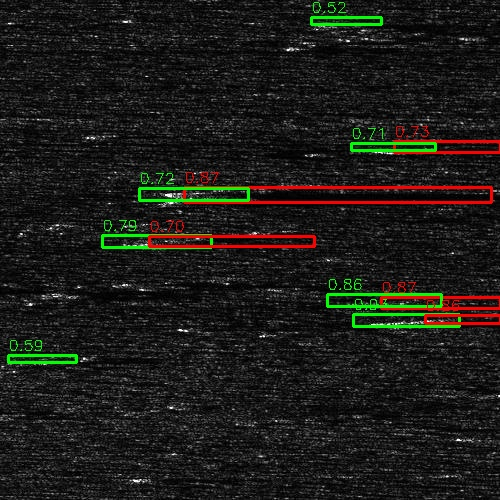rock: (132, 191, 225, 210), (142, 182, 235, 201), (94, 276, 229, 285), (120, 236, 203, 249), (359, 314, 442, 327), (310, 18, 403, 29), (447, 385, 500, 398), (348, 143, 431, 150), (38, 290, 91, 299), (348, 299, 421, 304), (130, 472, 171, 479)
shadow: (189, 182, 500, 201), (179, 191, 367, 210), (162, 236, 345, 249), (162, 276, 403, 285), (357, 18, 500, 29), (401, 314, 500, 327), (65, 290, 183, 299), (390, 143, 500, 150), (0, 280, 59, 291), (385, 299, 500, 304), (151, 472, 211, 479)
